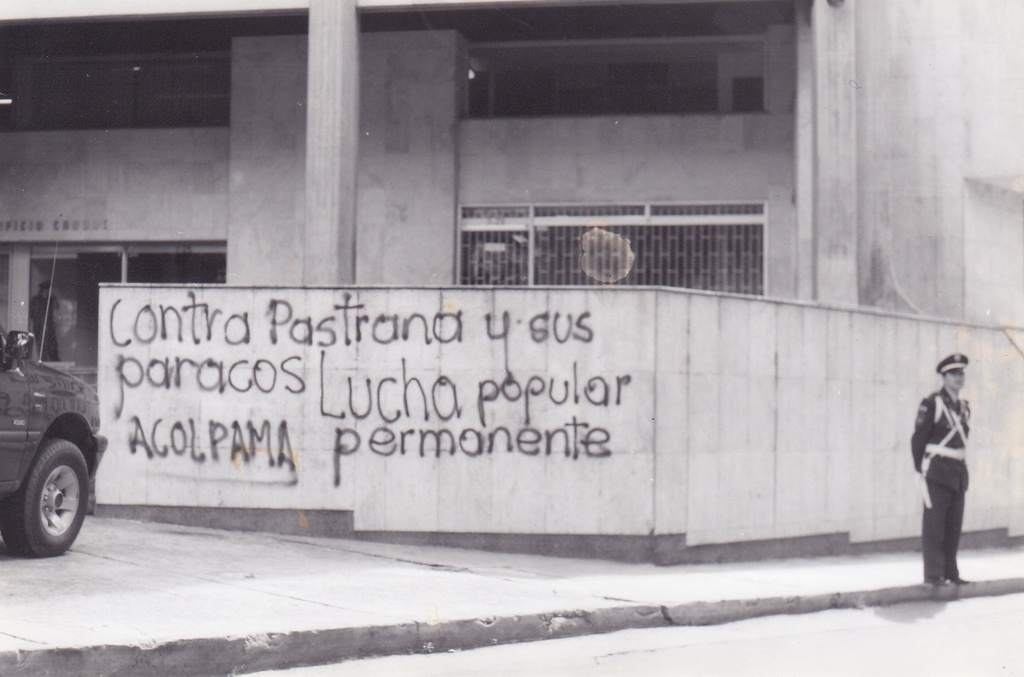cars: (0, 215, 108, 560)
